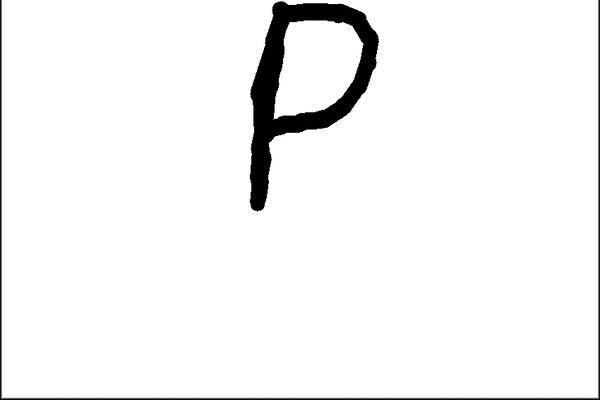P: (238, 0, 390, 223)
